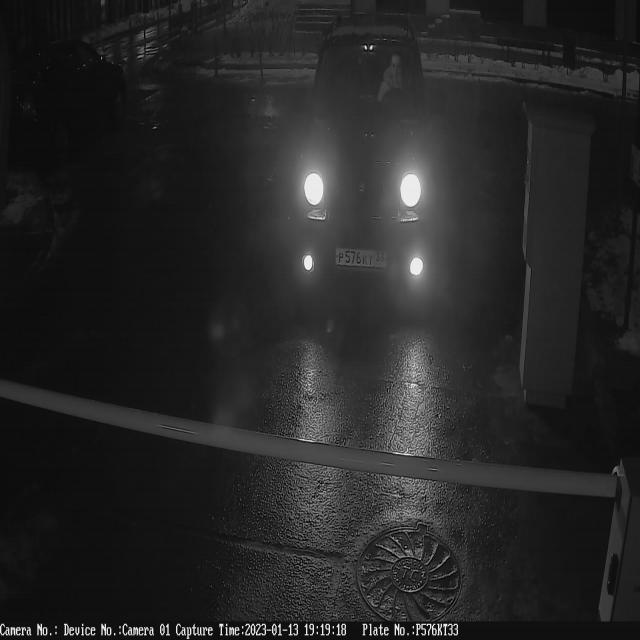car-plate-numbers: (334, 241, 390, 277)
